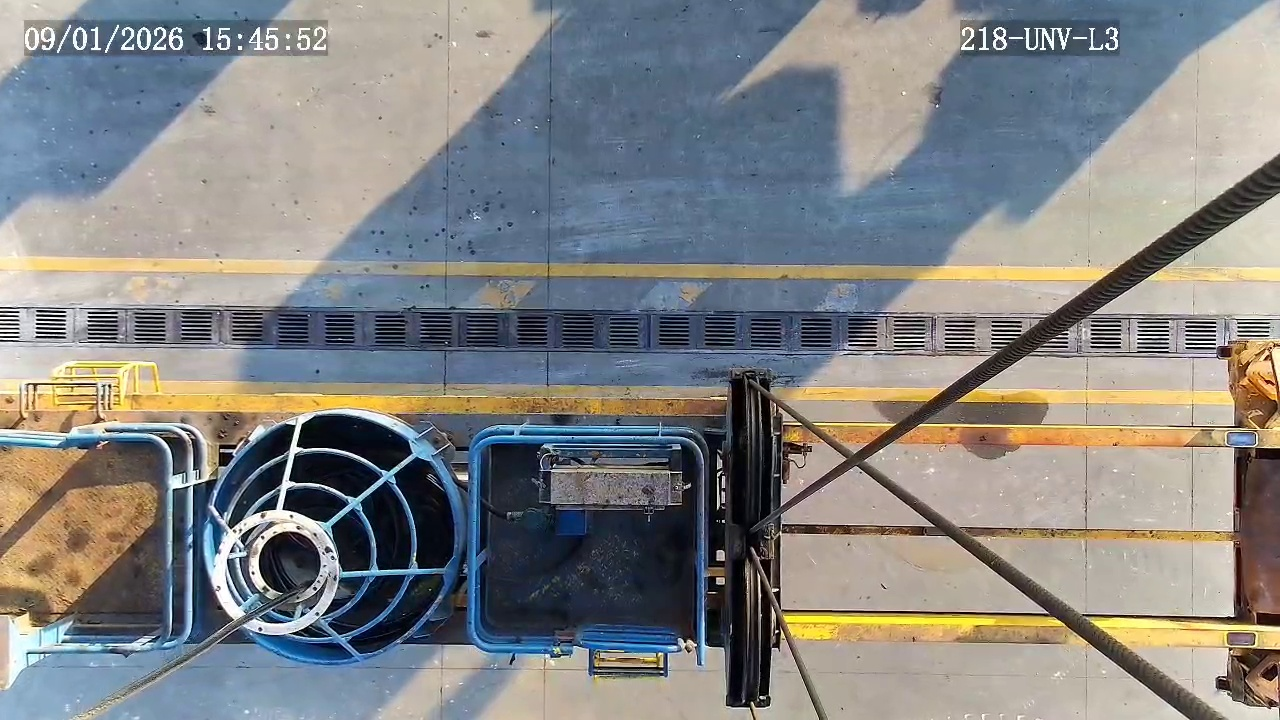right: (211, 510, 340, 636)
